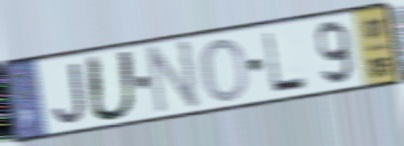9: (315, 19, 356, 87)
J: (50, 60, 89, 126)
L: (260, 29, 310, 95)
N: (146, 37, 201, 117)
O: (200, 36, 251, 104)
U: (83, 48, 140, 124)
